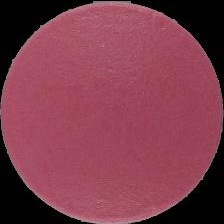68387-310: (0, 0, 224, 224)
